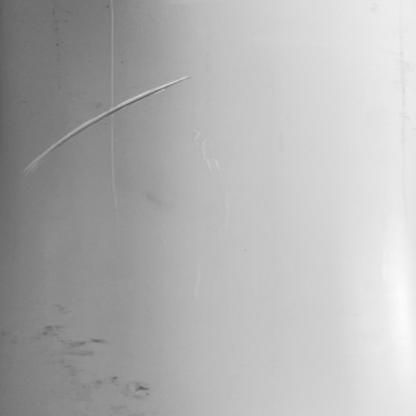sunshang: (20, 77, 191, 172)
